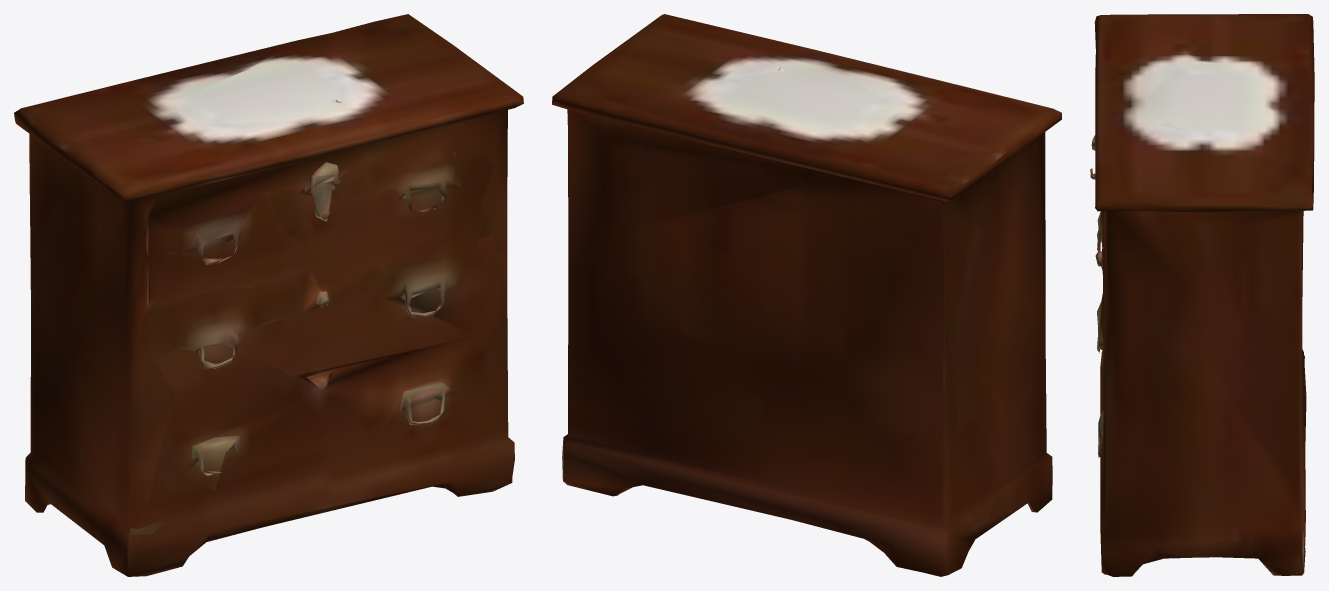
File: comoda.movil.glb
3 renders of one model, left to right at view 1: azimuth 30°, elevation 25°; view 2: azimuth 150°, elevation 25°; view 3: azimuth 270°, elevation 25°, orthographic. The views are drawn at different scales.
Parts seen in each view (by area): view 1: geometry_0; view 2: geometry_0; view 3: geometry_0.
Part boxes in pixels (x1,y1,x2,y2): geometry_0: (14,14,523,576); geometry_0: (552,14,1061,576); geometry_0: (1090,14,1314,576).
Bounding box in the file's own units: 0.9988 × 0.9493 × 0.4992.
1 material, 1 textured.
